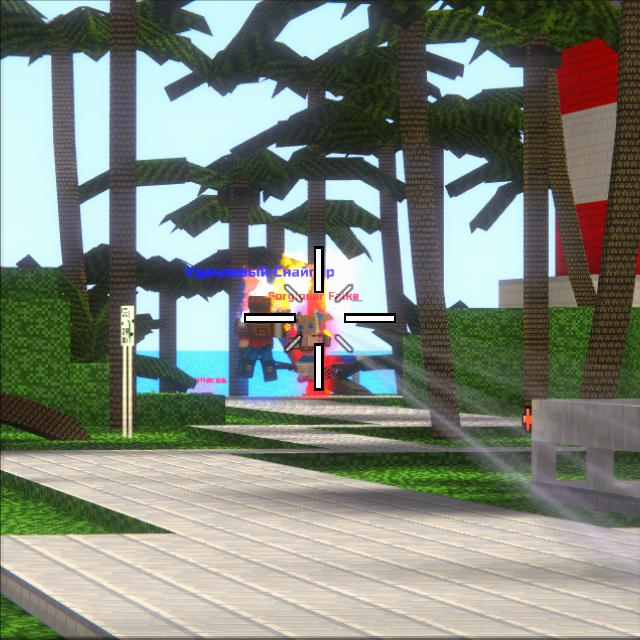Enemy: (295, 291, 335, 393)
